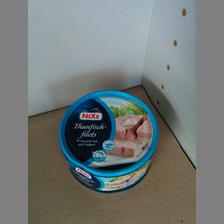fish: (59, 90, 159, 193)
